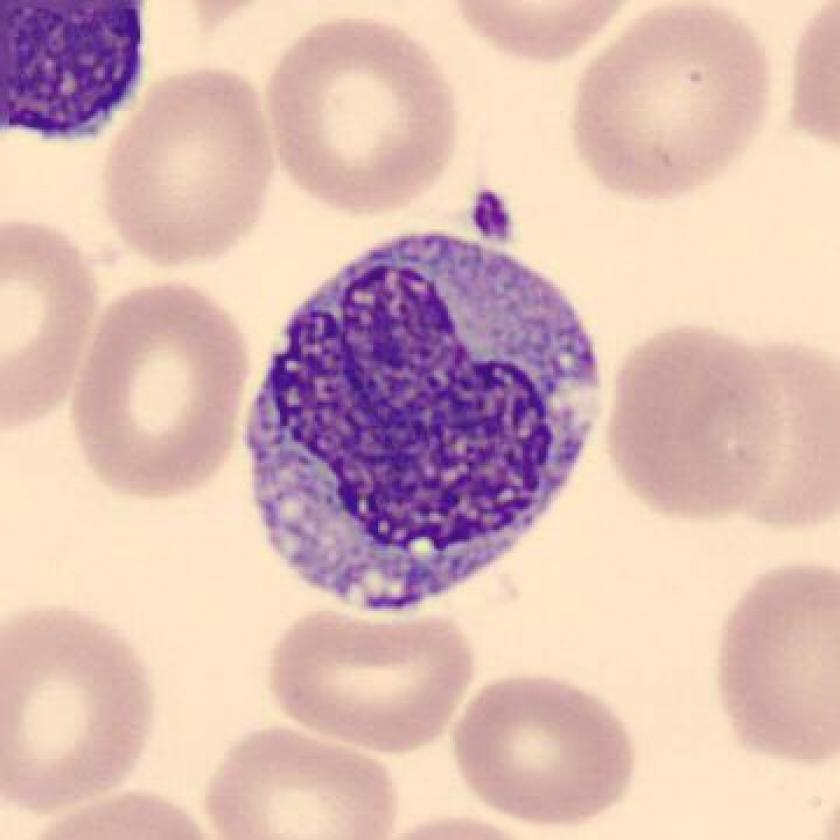monocyte: (225, 221, 617, 637)
